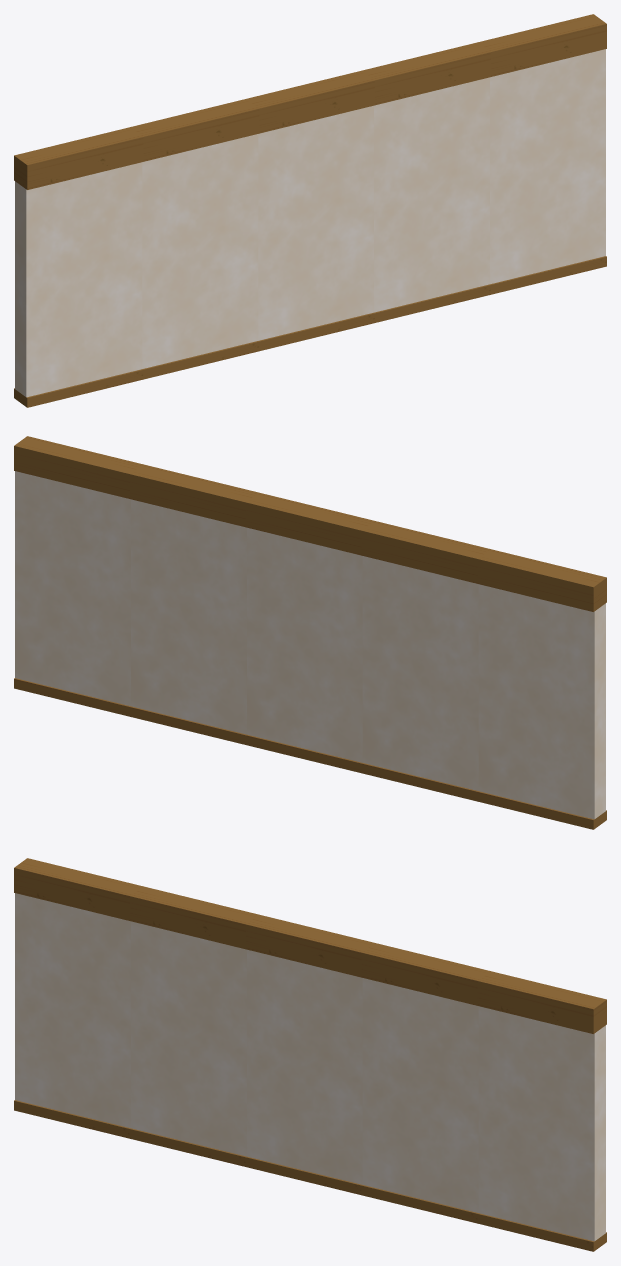
The model's file is wall_5.fbx.
The picture shows the model from 3 angles, top to bottom: view 1: azimuth 30°, elevation 25°; view 2: azimuth 150°, elevation 25°; view 3: azimuth 330°, elevation 25°; orthographic projection.
Parts seen in each view (by area): view 1: wall05; view 2: wall05; view 3: wall05.
Part boxes in pixels (x1,y1,x2,y2): wall05: [14, 14, 606, 407]; wall05: [14, 436, 606, 829]; wall05: [14, 858, 606, 1251].
Size of the model in its own units: 500 by 200 by 20.
